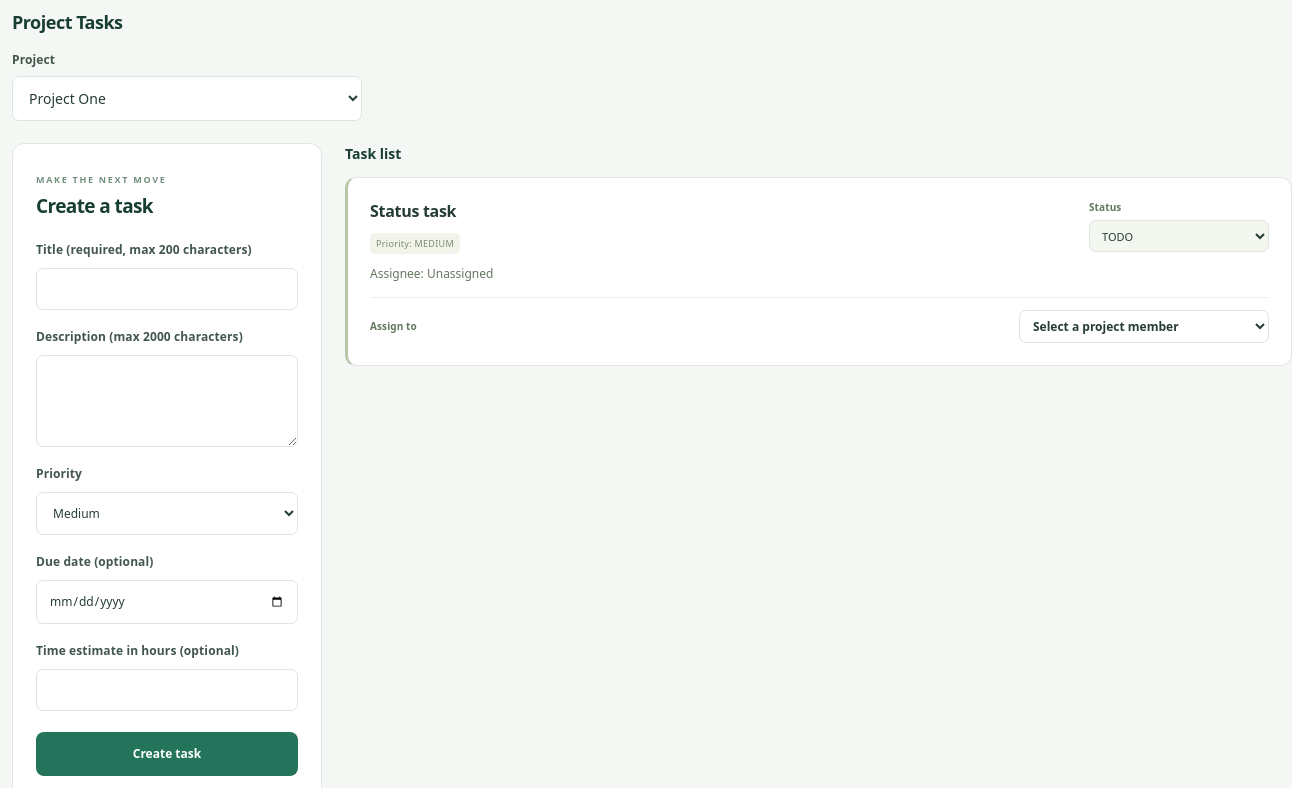
Test: TaskWorkspace idempotency › preserves the original status and displays an error when a change fails
Select "IN PROGRESS" in the dropdown named "Status for Status task" at {"x": 1179, "y": 236}, box [1089,220,1269,252]
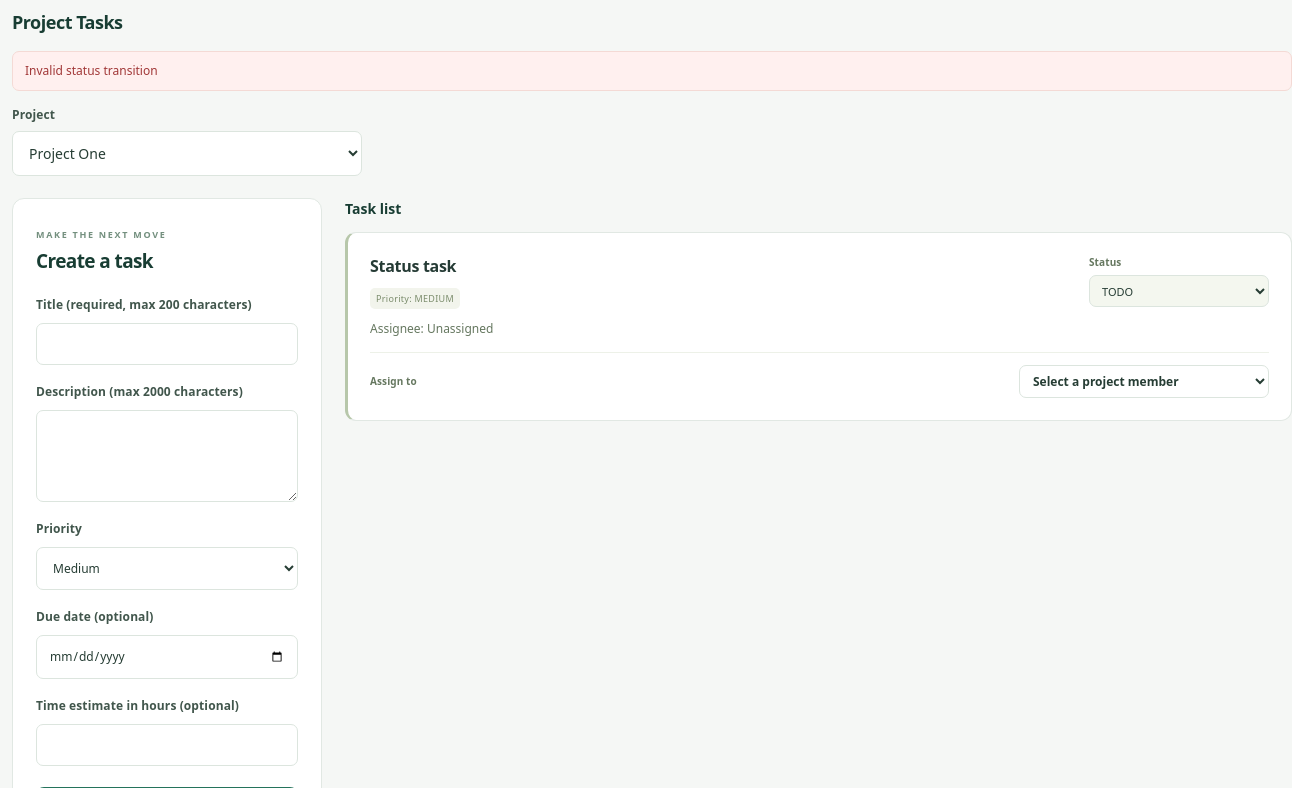
Check: the text "Invalid status transition" is shown, box [12,51,1291,91]
